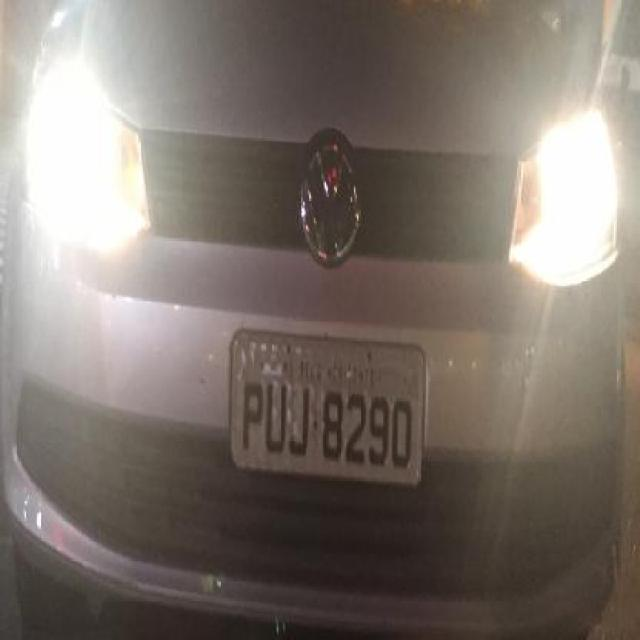old_plate: (224, 323, 433, 492)
